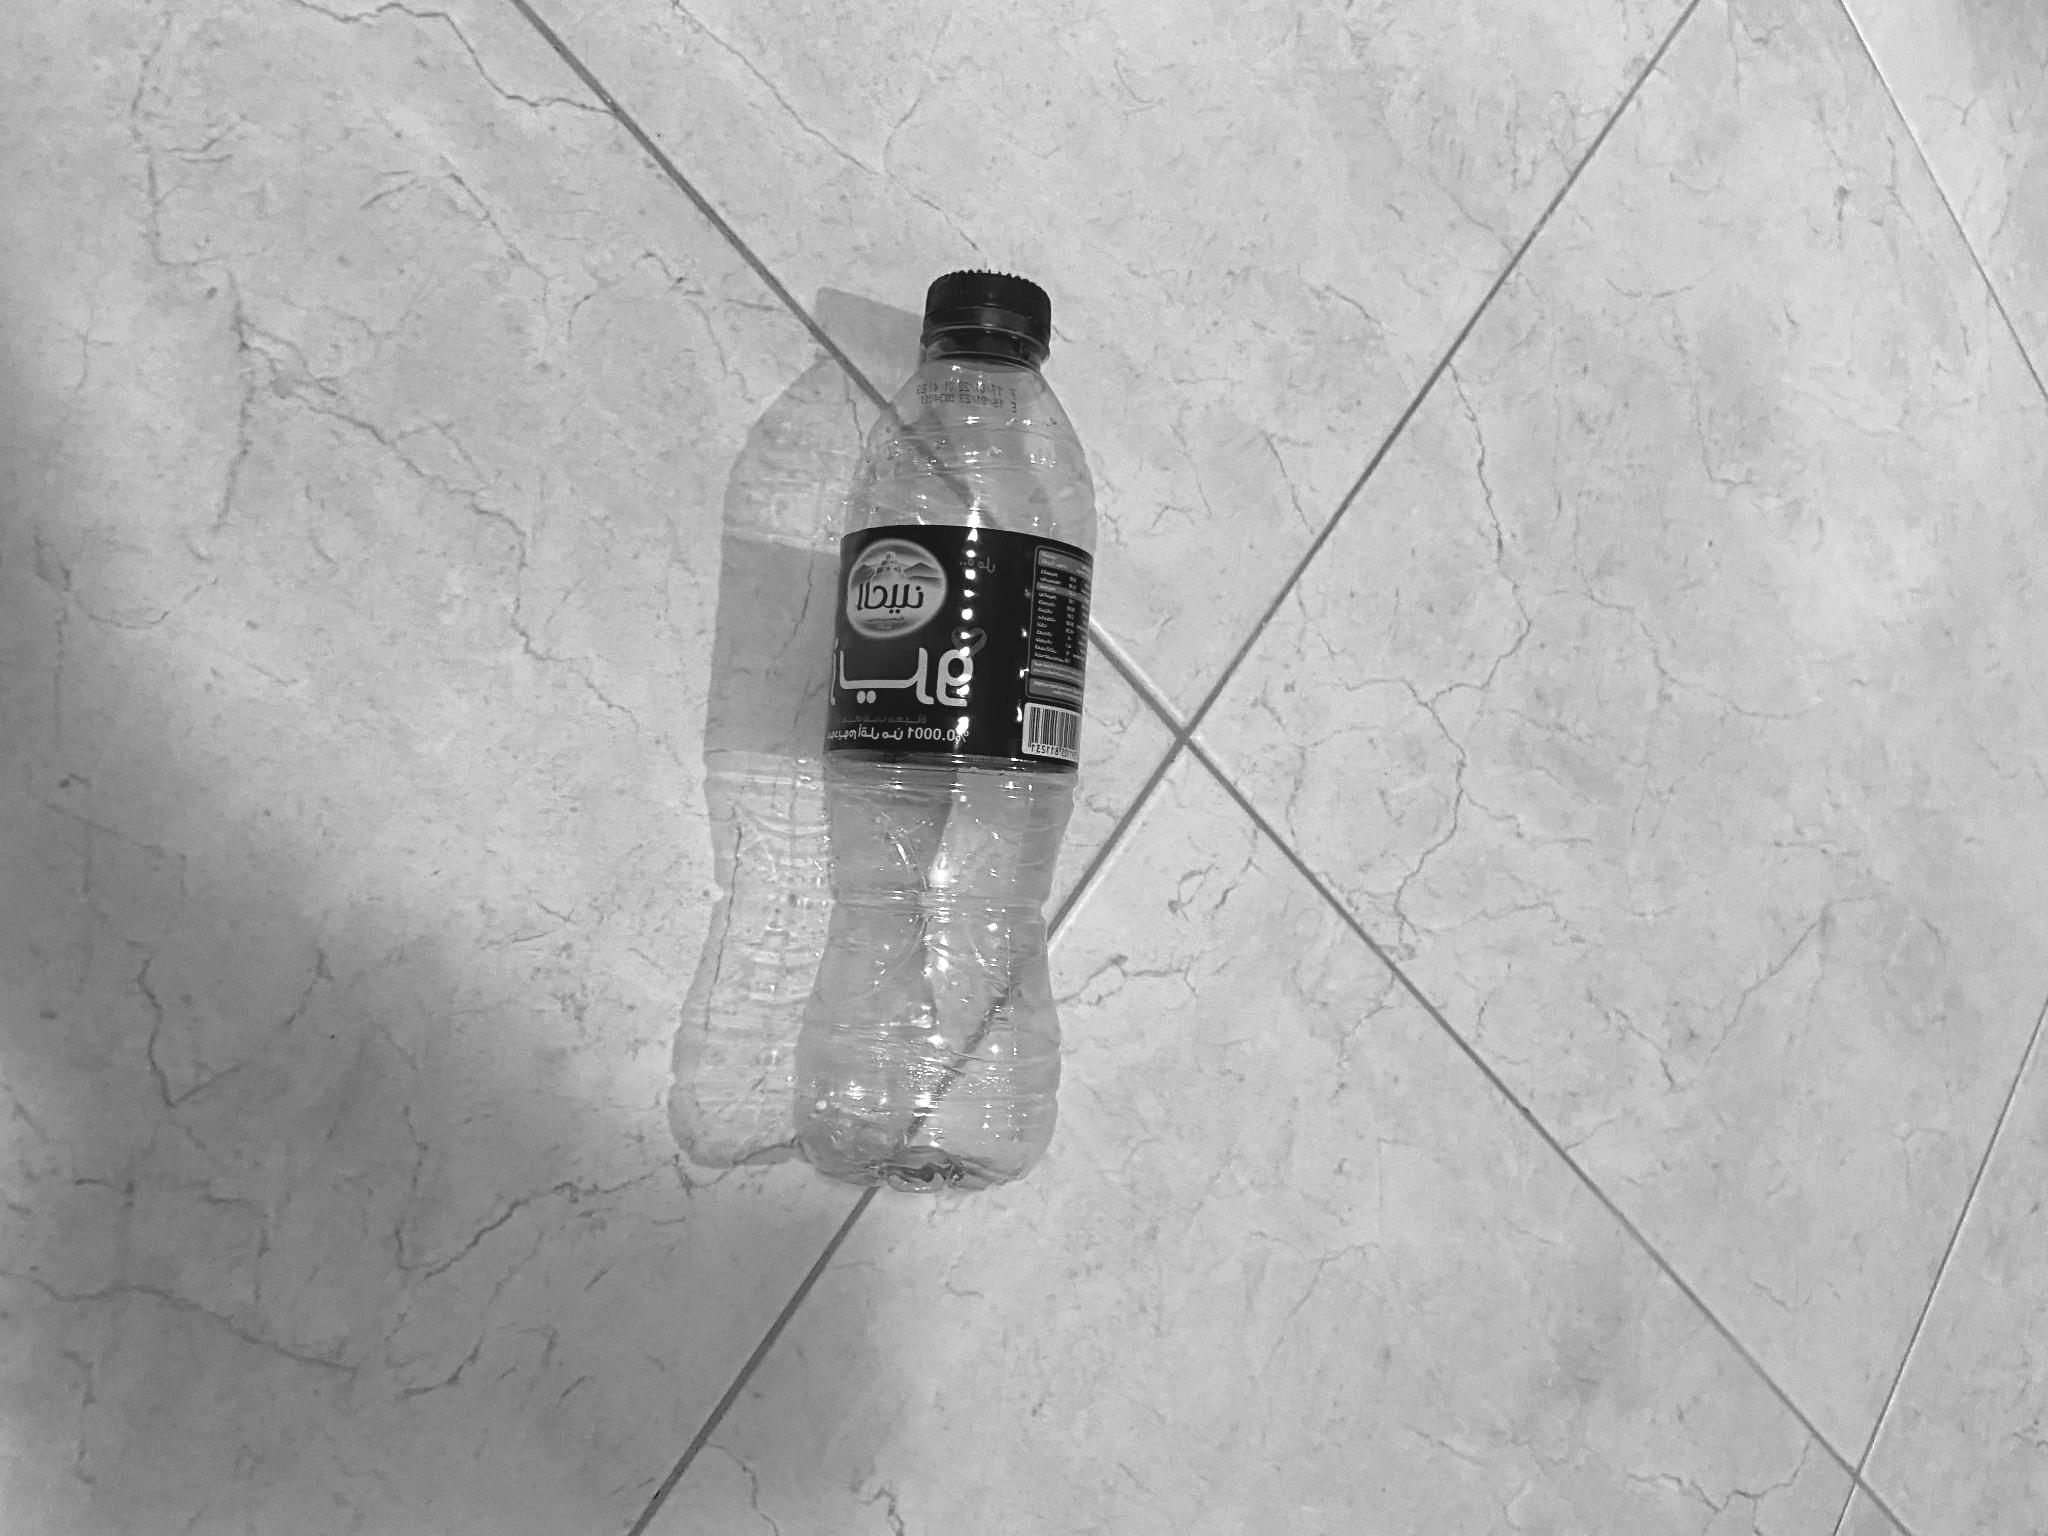bottle: (769, 260, 1134, 1191)
